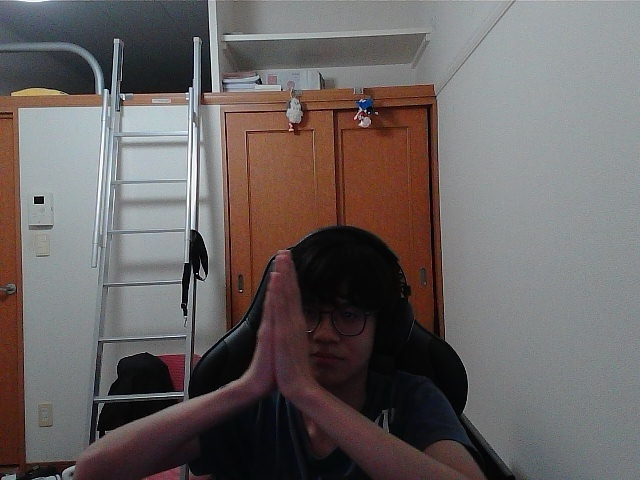pray: (270, 273, 304, 382)
